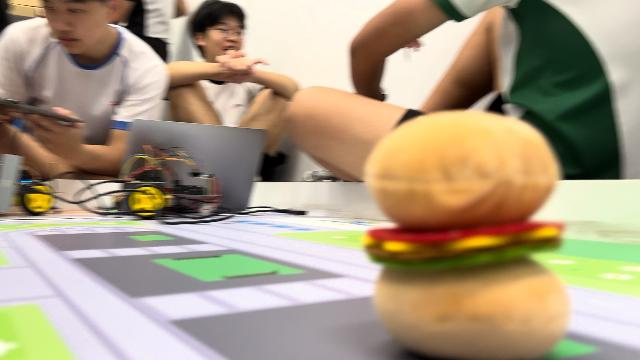burger: (358, 105, 574, 357)
